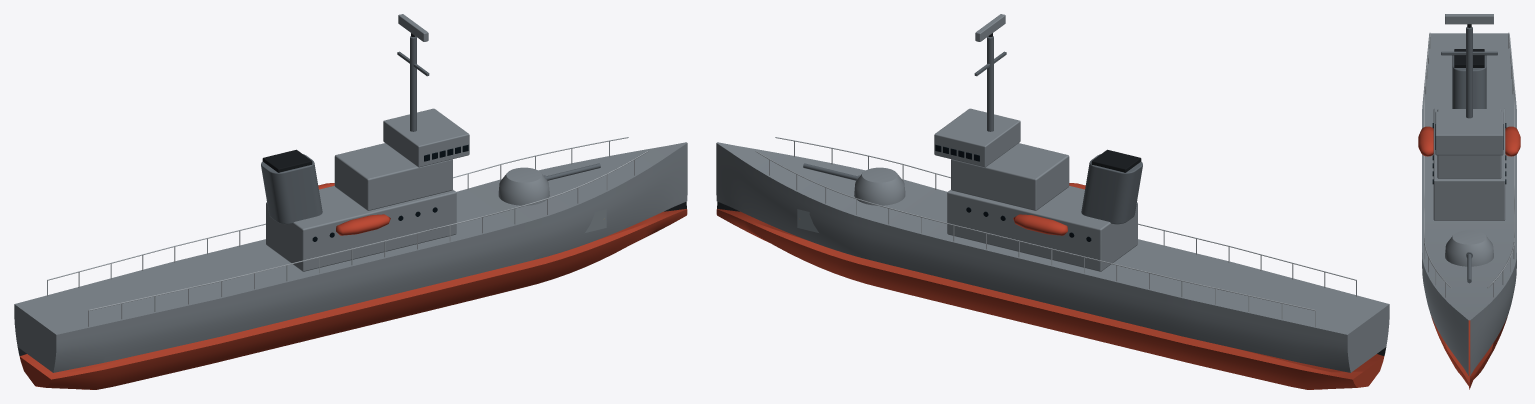
File: EnemyFrigate.glb
3 views of the same model, side by side, from view 1: azimuth 30°, elevation 25°; view 2: azimuth 150°, elevation 25°; view 3: azimuth 270°, elevation 25° (orthographic). The views are drawn at different scales.
Visible parts, largest first — view 1: EnemyFrigate_Body, EnemyFrigate_Turret; view 2: EnemyFrigate_Body, EnemyFrigate_Turret; view 3: EnemyFrigate_Body, EnemyFrigate_Turret, EnemyFrigate_Radar, EnemyFrigate_Gun.
Boxes of the visible parts, x1,y1,x2,y2 form: EnemyFrigate_Body: (14, 36, 687, 389); EnemyFrigate_Turret: (498, 167, 549, 205); EnemyFrigate_Body: (716, 36, 1389, 389); EnemyFrigate_Turret: (854, 167, 905, 205); EnemyFrigate_Body: (1418, 27, 1520, 389); EnemyFrigate_Turret: (1445, 230, 1493, 266); EnemyFrigate_Radar: (1445, 14, 1493, 27); EnemyFrigate_Gun: (1466, 252, 1472, 283).
Size of the model in its own units: 38 by 15.95 by 5.4.
8 materials, 1 textured.
